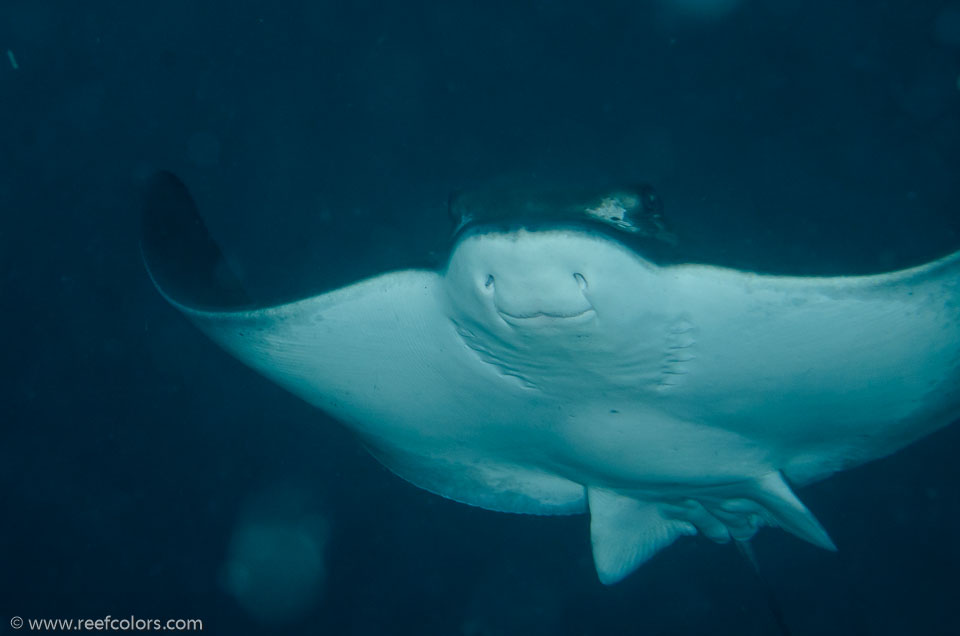Bat Ray: (135, 135, 960, 597)
